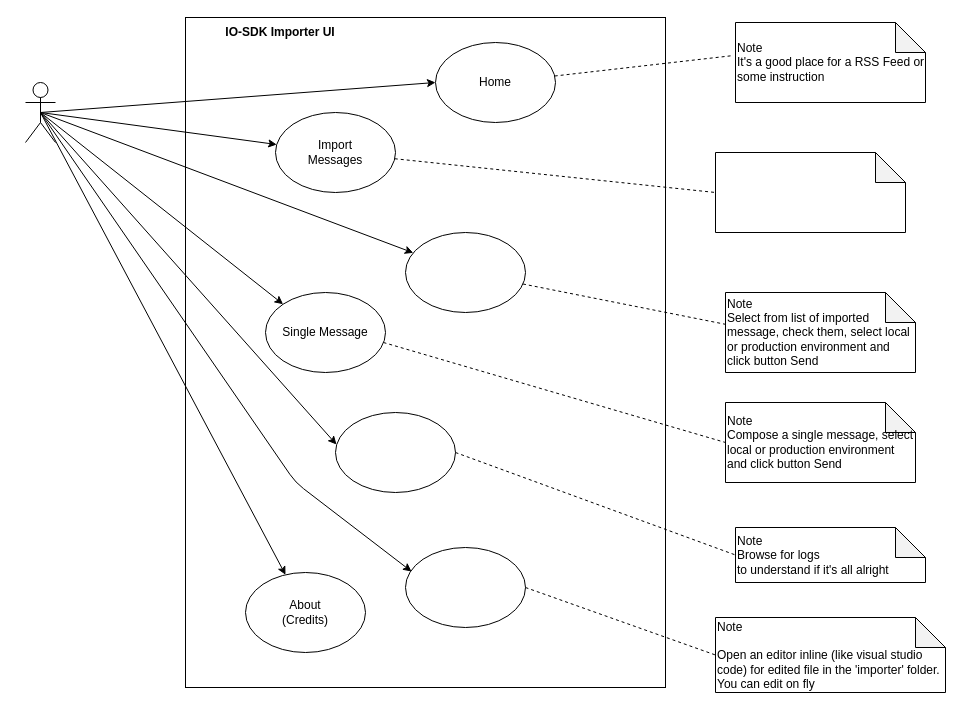
This 963x710 diagram has some shape labels left out. The box of each missing label's shape, as (x1, y1, x2, y2) in pixels:
Debugging: (334, 412, 456, 492)
Development: (404, 546, 526, 628)
Note This is where a specific connector is called: (714, 152, 906, 232)
Operator: (24, 82, 56, 142)
Send Messages: (404, 232, 526, 312)
